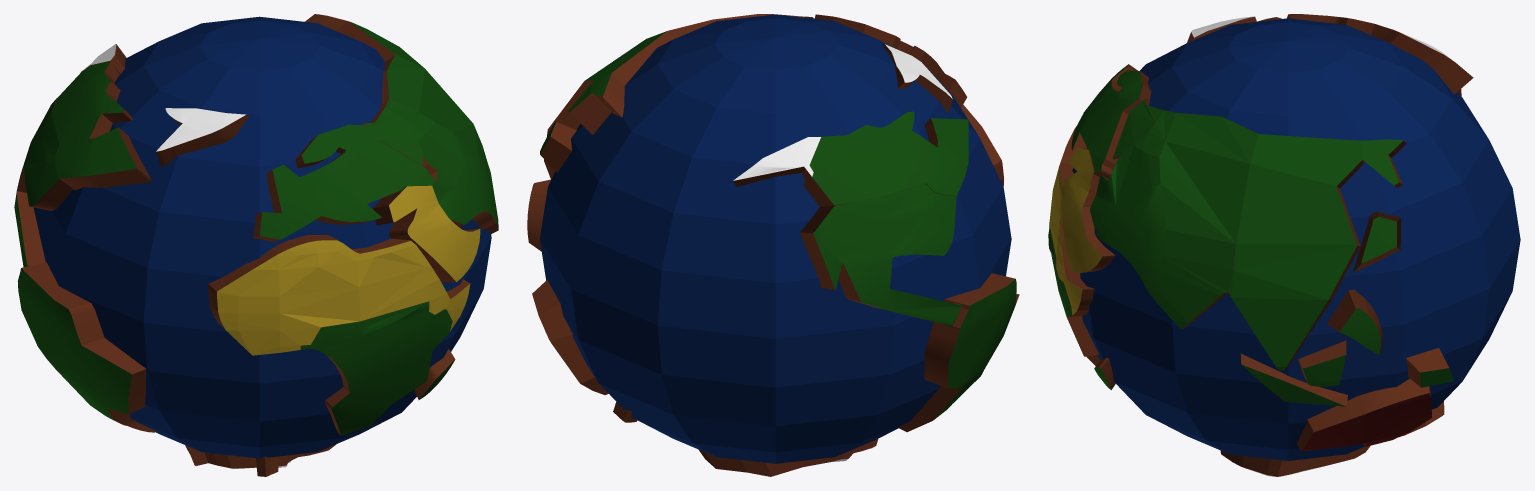
The model's file is Planet_V2.FBX.
The picture shows the model from 3 angles, left to right: view 1: azimuth 30°, elevation 25°; view 2: azimuth 150°, elevation 25°; view 3: azimuth 270°, elevation 25°; orthographic projection.
Visible parts, largest first — view 1: Earth_Base, NorthAfrica, Europe, SouthAfrica, SouthAmerica, Russia, Canada, MiddleEast, USA&Mexico, WestAsia, Greenland, Antartica (+2 smaller); view 2: Earth_Base, USA&Mexico, Canada, SouthAmerica, Russia, Europe, Antartica, Greenland, PapaNewGuinea, Australia, Japan, Philippines (+2 smaller); view 3: Earth_Base, Russia, EastAsia, Australia, WestAsia, Europe, MiddleEast, NorthAfrica, Singapore, Philippines, Japan, USA&Mexico (+6 smaller).
Part boxes in pixels (x1,y1,x2,y2): Earth_Base: [33, 16, 491, 458]; NorthAfrica: [208, 234, 470, 355]; Europe: [253, 124, 434, 242]; SouthAfrica: [300, 301, 452, 435]; SouthAmerica: [17, 262, 156, 432]; Russia: [305, 14, 473, 186]; Canada: [51, 61, 151, 190]; MiddleEast: [373, 185, 480, 282]; USA&Mexico: [14, 44, 126, 266]; WestAsia: [430, 133, 496, 229]; Greenland: [156, 108, 249, 166]; Antartica: [185, 444, 336, 476]; Earth_Base: [540, 14, 1011, 463]; USA&Mexico: [733, 137, 962, 326]; Canada: [802, 111, 968, 206]; SouthAmerica: [898, 273, 1019, 432]; Russia: [568, 14, 813, 134]; Europe: [814, 14, 966, 107]; Antartica: [698, 439, 878, 476]; Greenland: [882, 44, 952, 113]; PapaNewGuinea: [532, 280, 572, 340]; Australia: [550, 335, 608, 394]; Japan: [540, 121, 576, 172]; Philippines: [527, 179, 551, 251]; Earth_Base: [1072, 18, 1520, 460]; Russia: [1111, 98, 1406, 243]; EastAsia: [1156, 184, 1360, 370]; Australia: [1297, 379, 1431, 451]; WestAsia: [1089, 174, 1166, 301]; Europe: [1071, 64, 1151, 178]; MiddleEast: [1062, 147, 1115, 272]; NorthAfrica: [1049, 126, 1094, 315]; Singapore: [1240, 354, 1347, 406]; Philippines: [1327, 289, 1382, 354]; Japan: [1353, 211, 1400, 272]; USA&Mexico: [1382, 29, 1473, 96].
Size of the model in its own units: 19.46 by 17.78 by 18.63.
